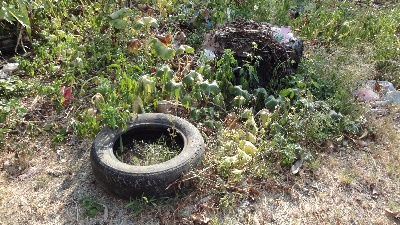tire: (92, 112, 205, 202)
